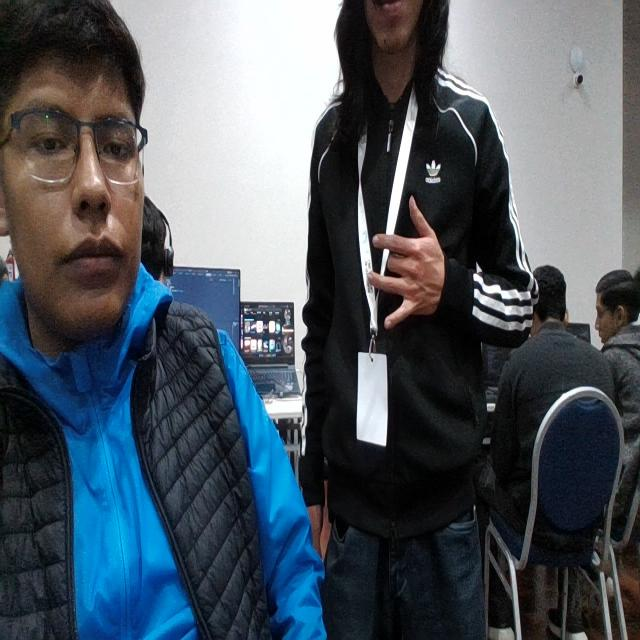feel: (359, 179, 445, 343)
